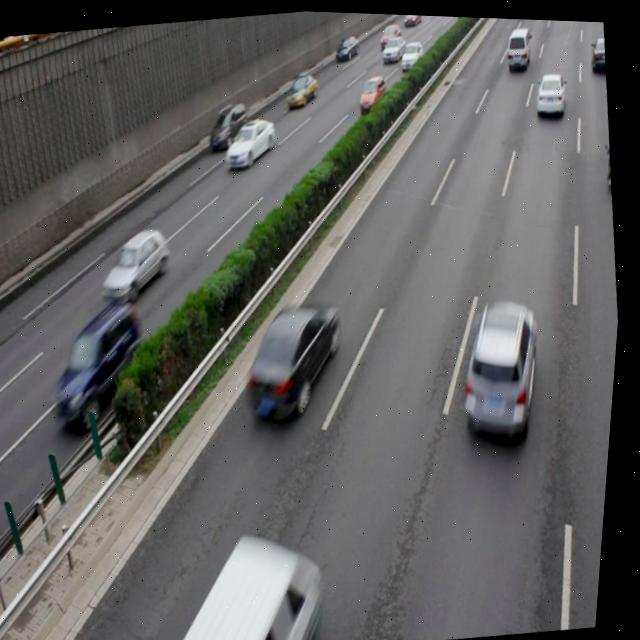car: (45, 294, 160, 436), (237, 291, 355, 427), (454, 291, 555, 443), (99, 221, 176, 303), (222, 113, 281, 169), (205, 97, 252, 150), (530, 66, 568, 113), (282, 65, 321, 109), (354, 69, 391, 112)
truck: (178, 523, 336, 640)
